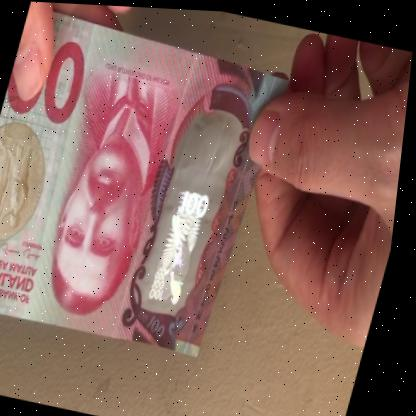100F: (148, 129, 236, 310)
